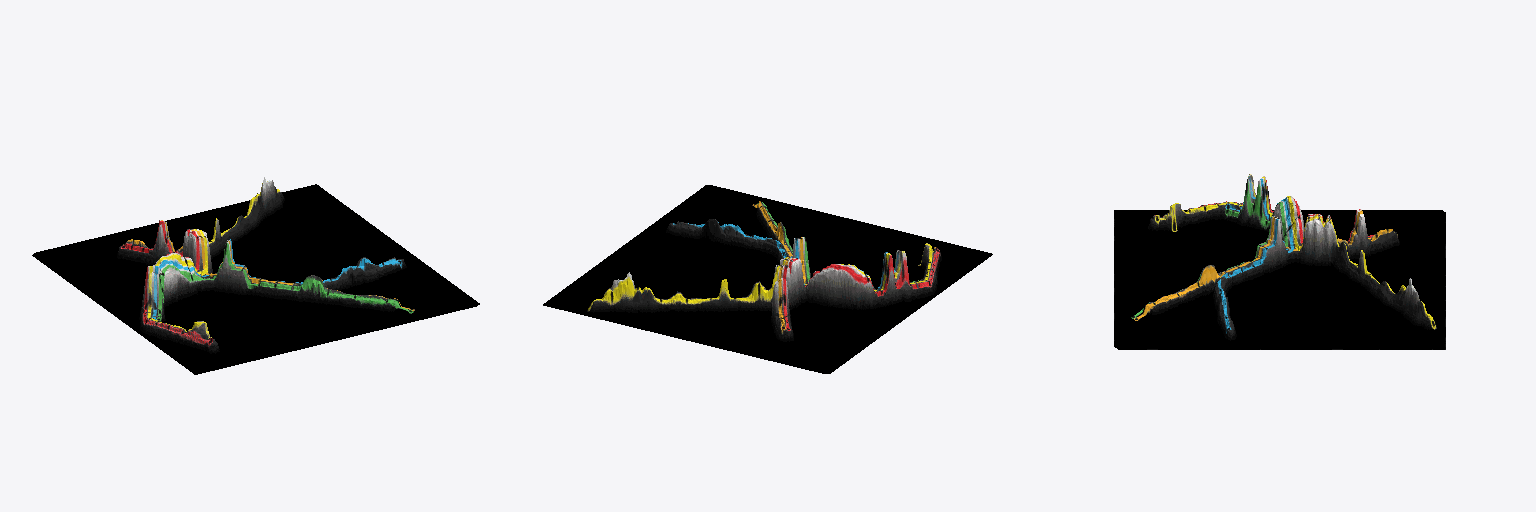
3 views of the same model, side by side, from view 1: azimuth 30°, elevation 25°; view 2: azimuth 150°, elevation 25°; view 3: azimuth 270°, elevation 25° (orthographic).
Parts seen in each view (by area): view 1: pPlane1_displacement1; view 2: pPlane1_displacement1; view 3: pPlane1_displacement1.
Boxes of the visible parts, x1,y1,x2,y2 form: pPlane1_displacement1: [32, 177, 479, 374]; pPlane1_displacement1: [543, 185, 992, 373]; pPlane1_displacement1: [1114, 174, 1445, 349].
Bounding box in the file's own units: 16.31 × 2.57 × 16.31.
Materials: 1 (1 with a texture image).